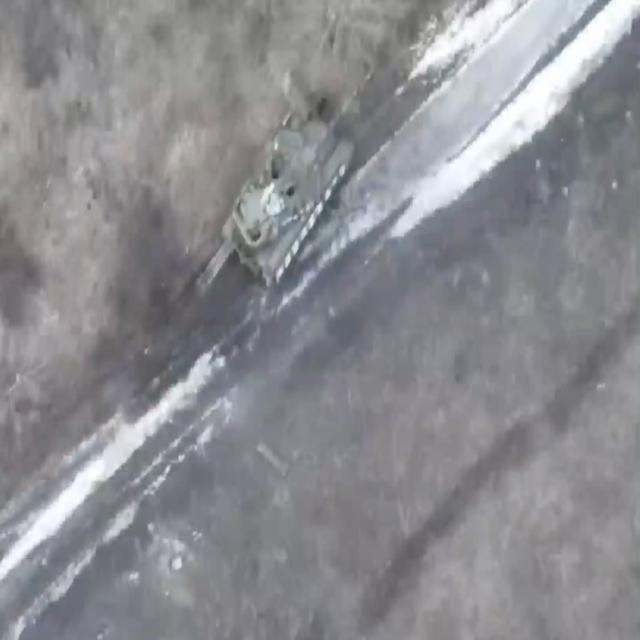vehicle: (195, 108, 359, 312)
